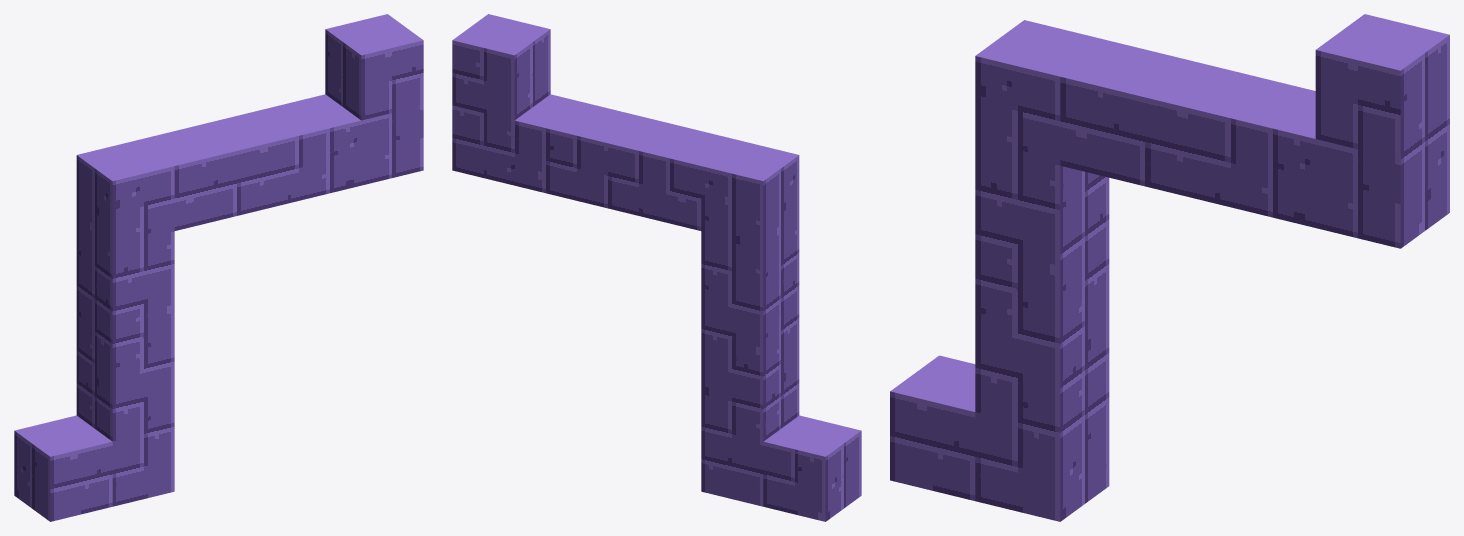
File: stargate_aao.fezao.glb
3 views of the same model, side by side, from view 1: azimuth 30°, elevation 25°; view 2: azimuth 150°, elevation 25°; view 3: azimuth 330°, elevation 25° (orthographic). The views are drawn at different scales.
Parts seen in each view (by area): view 1: STARGATE_AAO; view 2: STARGATE_AAO; view 3: STARGATE_AAO.
Part boxes in pixels (<box>): STARGATE_AAO: <box>14,14,423,521</box>; STARGATE_AAO: <box>452,14,861,521</box>; STARGATE_AAO: <box>890,14,1449,521</box>.
Bounding box in the file's own units: 6 × 6 × 1.
1 material, 1 textured.
